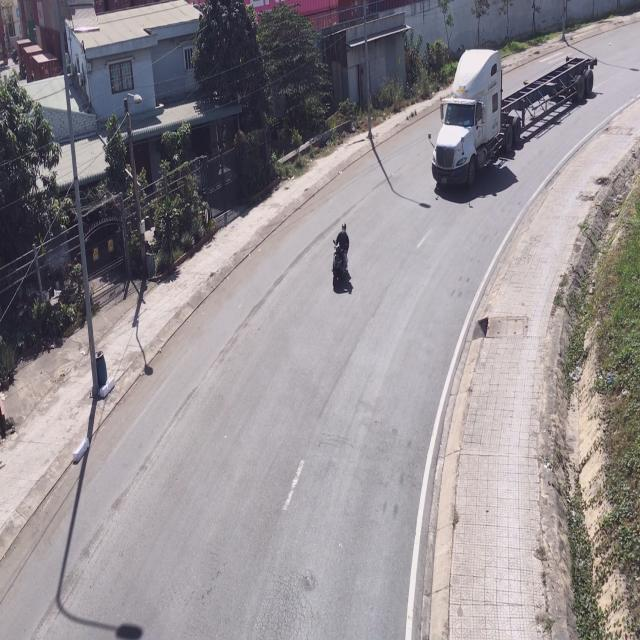motorbike: (331, 221, 354, 293)
truck: (426, 50, 594, 198)
